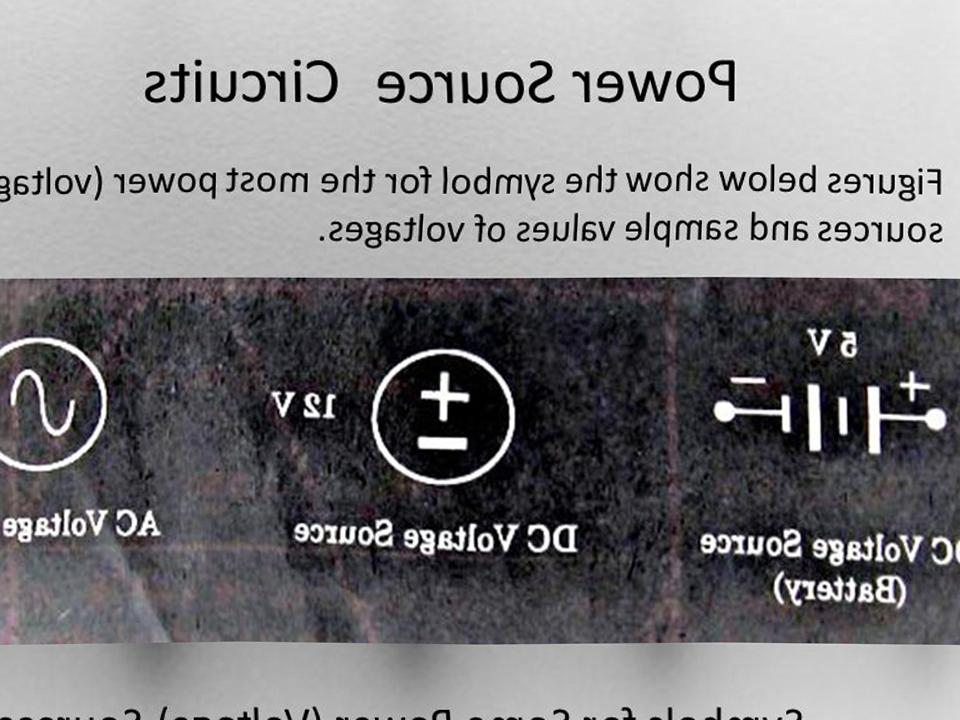Battery: (354, 341, 547, 500)
